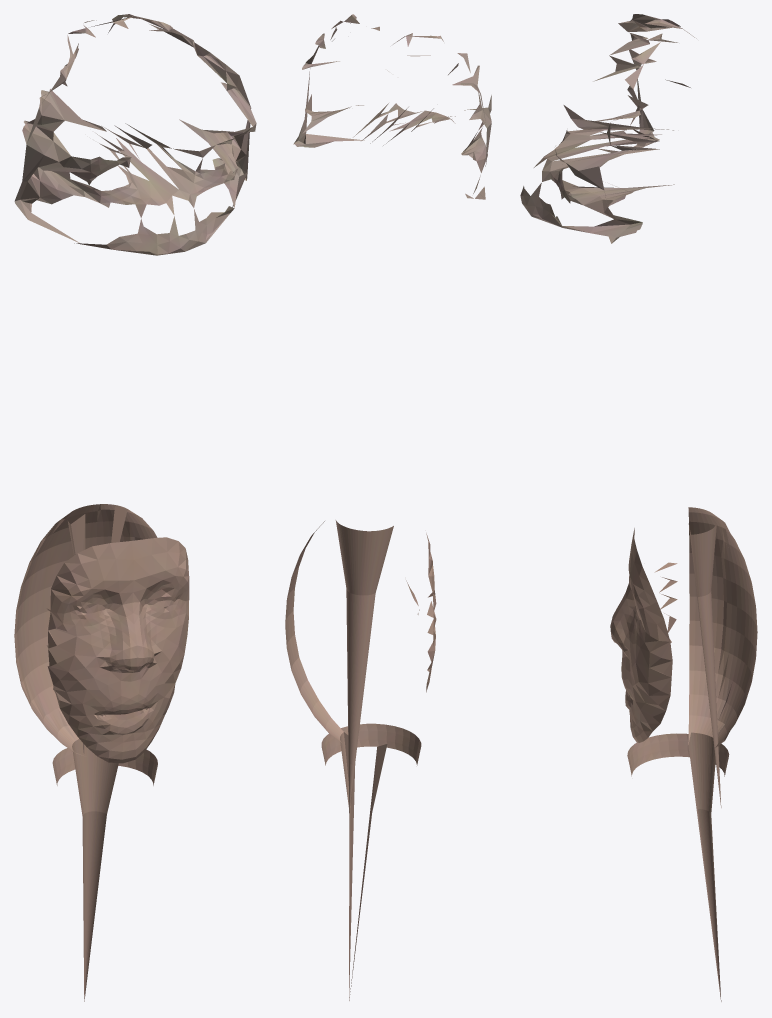
3 renders of one model, left to right at view 1: azimuth 30°, elevation 25°; view 2: azimuth 150°, elevation 25°; view 3: azimuth 270°, elevation 25°, orthographic. The views are drawn at different scales.
Visible parts, largest first — view 1: world; view 2: world; view 3: world.
Boxes of the visible parts, x1,y1,x2,y2 form: world: (14, 14, 256, 1001); world: (285, 14, 491, 1000); world: (520, 14, 757, 1001).
Bounding box in the file's own units: 0.1318 × 0.5961 × 0.1319.
